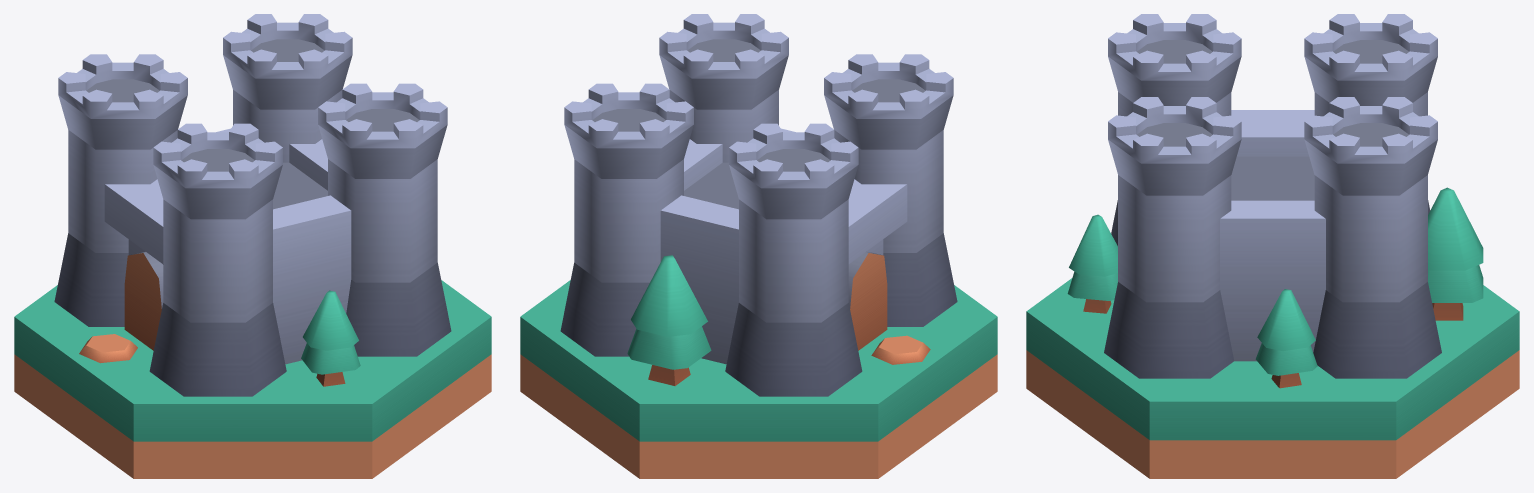
Rendered from building-castle.fbx.
The picture shows the model from 3 angles, left to right: view 1: azimuth 30°, elevation 25°; view 2: azimuth 150°, elevation 25°; view 3: azimuth 270°, elevation 25°; orthographic projection. The views are drawn at different scales.
Visible parts, largest first — view 1: building_castle; view 2: building_castle; view 3: building_castle.
Boxes of the visible parts, box(x1,y1,x2,y2) form: building_castle: box(14, 14, 491, 478); building_castle: box(520, 14, 997, 478); building_castle: box(1026, 14, 1519, 478).
Size of the model in its own units: 100 by 79.8 by 115.
1 material, 1 textured.
